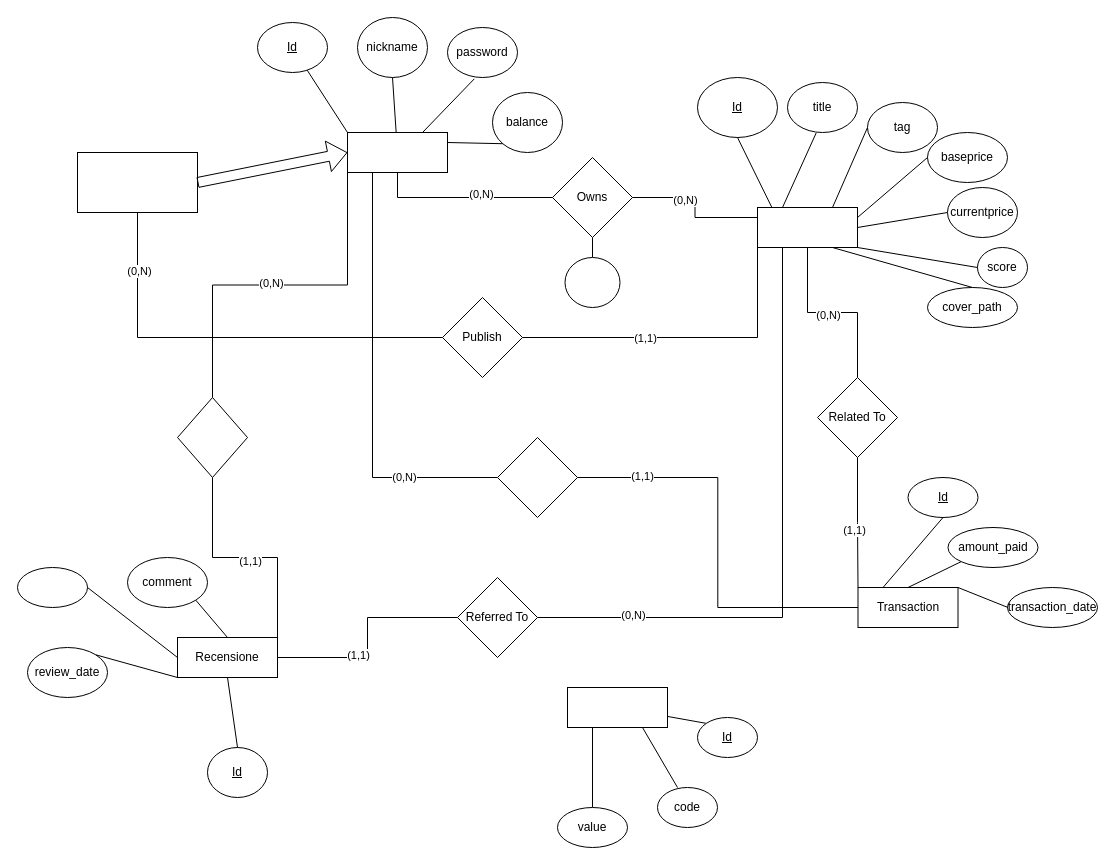
Image size: 1115x865. Some labels were removed from this diagram. The shapes that lost their labels are listed below. From the top down, each one's centre as x and y in pixels, then its label:
At point (397, 152): "User".
At point (137, 182): "Publisher".
At point (807, 227): "Game".
At point (592, 282): "Purchase Date".
At point (212, 437): "Writes".
At point (537, 477): "Makes".
At point (52, 587): "rating".
At point (617, 707): "Gift Card".
